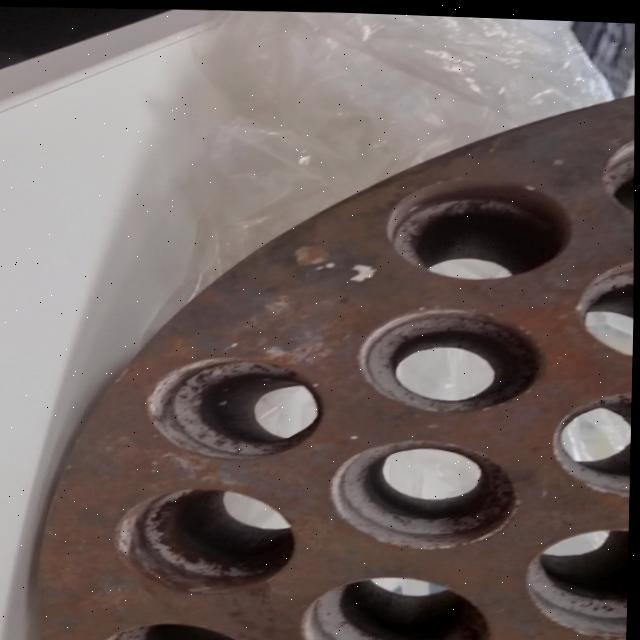Hole: (329, 432, 522, 550), (357, 299, 549, 415), (113, 481, 303, 596), (384, 173, 577, 280), (145, 352, 328, 461), (301, 568, 496, 640), (524, 521, 631, 638), (553, 383, 634, 498), (85, 617, 269, 640)
